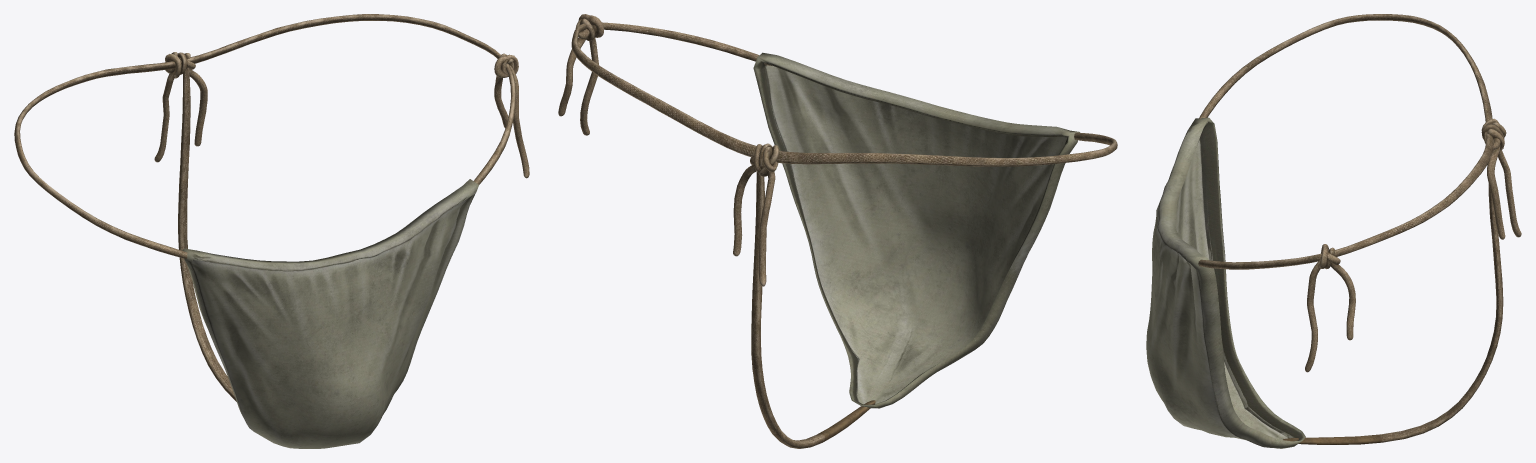
File: SM_Calzon.glb
3 renders of one model, left to right at view 1: azimuth 30°, elevation 25°; view 2: azimuth 150°, elevation 25°; view 3: azimuth 270°, elevation 25°, orthographic. The views are drawn at different scales.
Parts seen in each view (by area): view 1: Calzon_Low; view 2: Calzon_Low; view 3: Calzon_Low.
Part boxes in pixels (x1,y1,x2,y2): Calzon_Low: (14, 14, 529, 448); Calzon_Low: (558, 14, 1117, 448); Calzon_Low: (1146, 14, 1521, 448).
Size of the model in its own units: 0.3501 by 0.2247 by 0.2309.
1 material, 1 textured.
